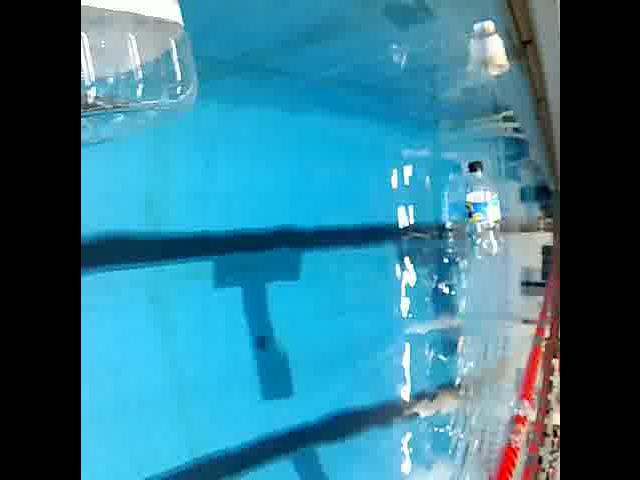Bottle: (81, 0, 202, 154), (456, 154, 504, 260), (473, 16, 517, 86)
